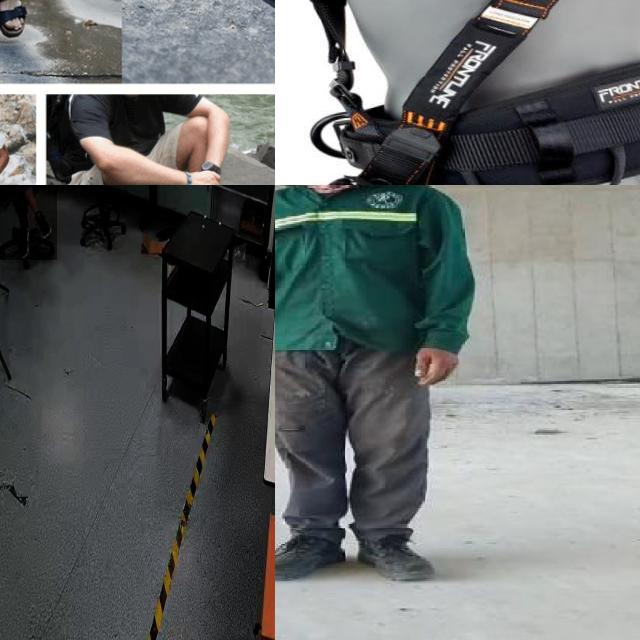Harness: (312, 0, 640, 185)
hand_glove: (0, 185, 57, 261)
hand_noglove: (409, 339, 467, 392)
person: (275, 185, 476, 601)
shoes: (348, 520, 442, 588), (275, 527, 351, 587), (31, 205, 55, 242)
